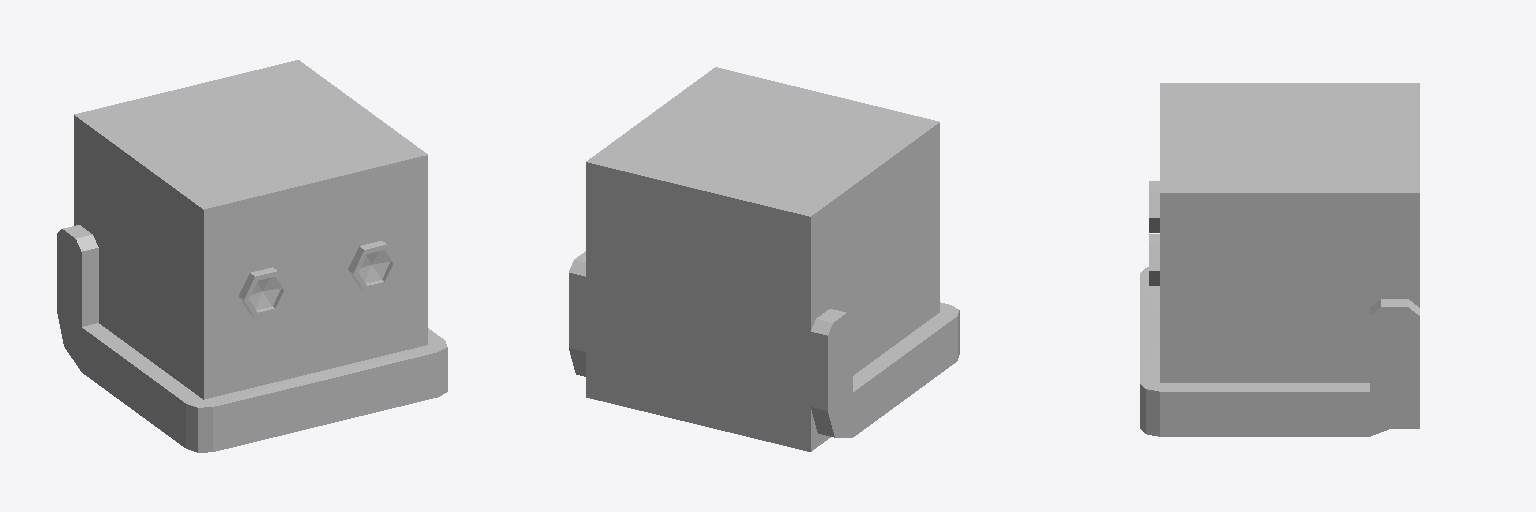
The model's file is head.obj.
3 views of the same model, side by side, from view 1: azimuth 30°, elevation 25°; view 2: azimuth 150°, elevation 25°; view 3: azimuth 270°, elevation 25° (orthographic).
Visible parts, largest first — view 1: robo_Untitled.015; view 2: robo_Untitled.015; view 3: robo_Untitled.015.
Part boxes in pixels (x1,y1,x2,y2): robo_Untitled.015: (57, 60, 447, 452); robo_Untitled.015: (569, 67, 959, 451); robo_Untitled.015: (1140, 83, 1419, 436).
Bounding box in the file's own units: 1.1 × 0.9549 × 1.03.